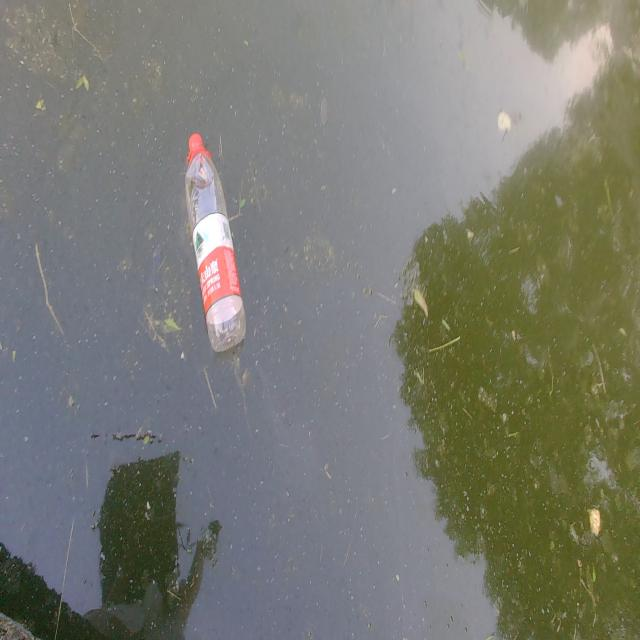Bottle: (181, 127, 249, 355)
